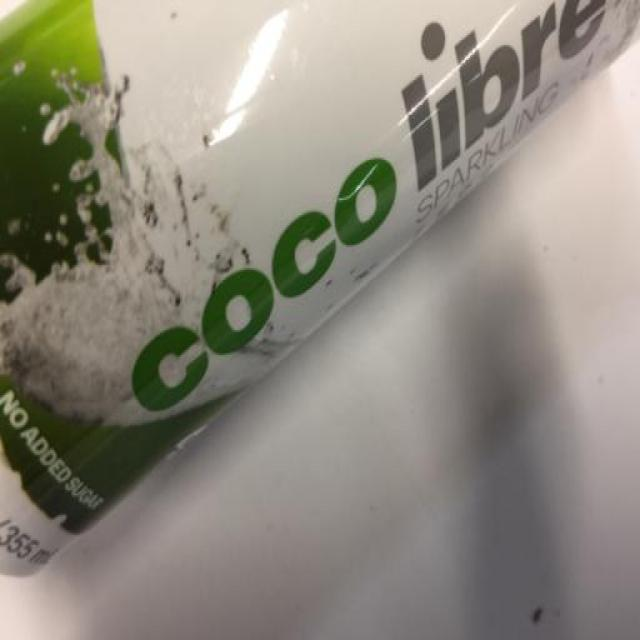plastic: (2, 1, 640, 579)
